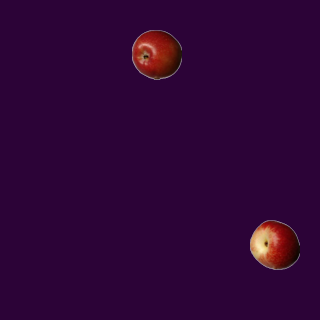Apple Braeburn: (131, 29, 181, 79)
Nectarine: (249, 219, 299, 269)
